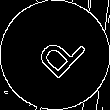P_SW: (24, 24, 86, 86)
